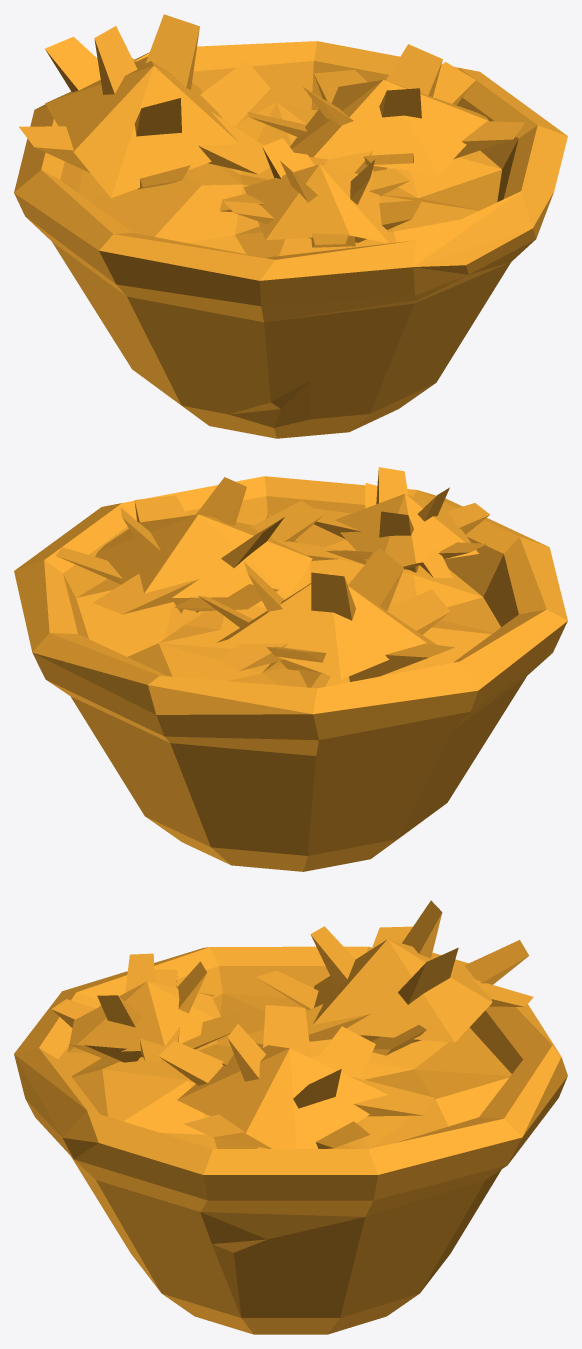
Rendered from SM_Bowl_Wooden_Flowers_Dandelion.fbx.
3 renders of one model, top to bottom at view 1: azimuth 30°, elevation 25°; view 2: azimuth 150°, elevation 25°; view 3: azimuth 270°, elevation 25°, orthographic.
Visible parts, largest first — view 1: bowl-wooden-flowers-dandelion; view 2: bowl-wooden-flowers-dandelion; view 3: bowl-wooden-flowers-dandelion.
Boxes of the visible parts, box(x1,y1,x2,y2) form: bowl-wooden-flowers-dandelion: box(14, 14, 567, 438); bowl-wooden-flowers-dandelion: box(14, 467, 567, 871); bowl-wooden-flowers-dandelion: box(14, 900, 567, 1334).
Bounding box in the file's own units: 0.2597 × 0.1748 × 0.2677.
